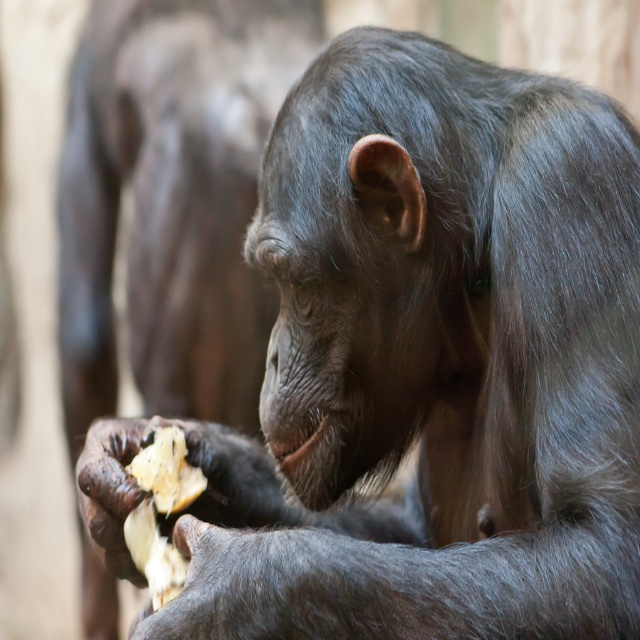Monkey: (129, 23, 635, 638)
